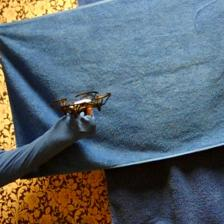drone: (55, 90, 112, 114)
